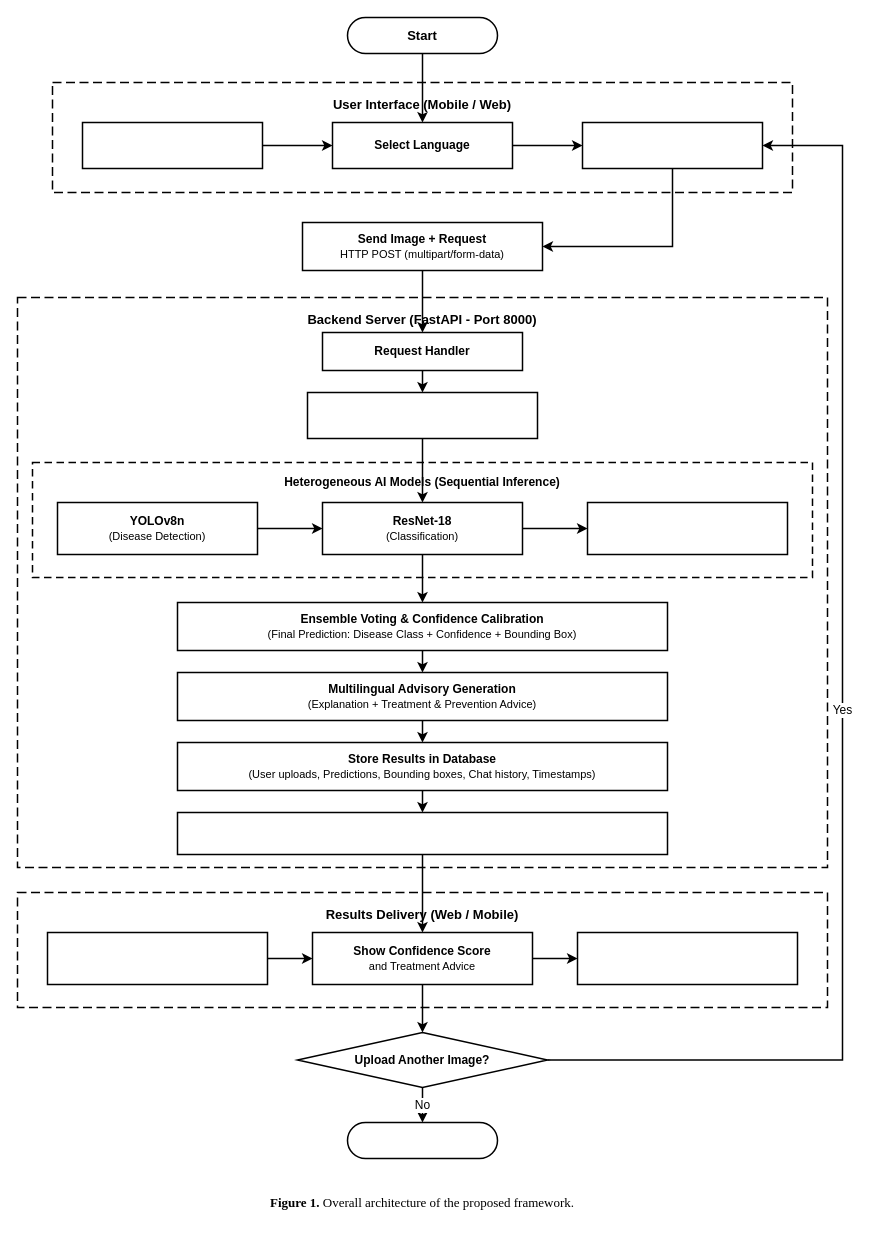
Some shapes in this 870 by 1235 pixel diagram are drawn without their labels. Here are the shapes that lost their labels. From the top down, the centre of each, then its label:
At pixel 172 145: "Open Application".
At pixel 672 145: "Upload Leaf Image".
At pixel 422 415: "Image Preprocessing (Resize, Normalization)".
At pixel 687 528: "Vision Transformer (Classification)".
At pixel 422 833: "Generate JSON Response (Results + Advice)".
At pixel 157 958: "Display Detected Disease (with Bounding Box)".
At pixel 687 958: "Chatbot Interaction (Multilingual)".
At pixel 422 1140: "End".
